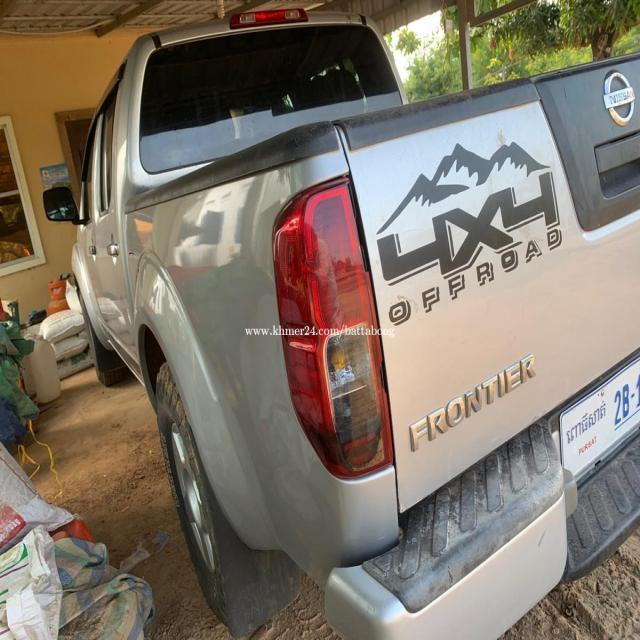Pursat: (567, 399, 606, 447)
